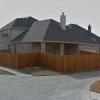Chimney: (55, 9, 72, 34)
